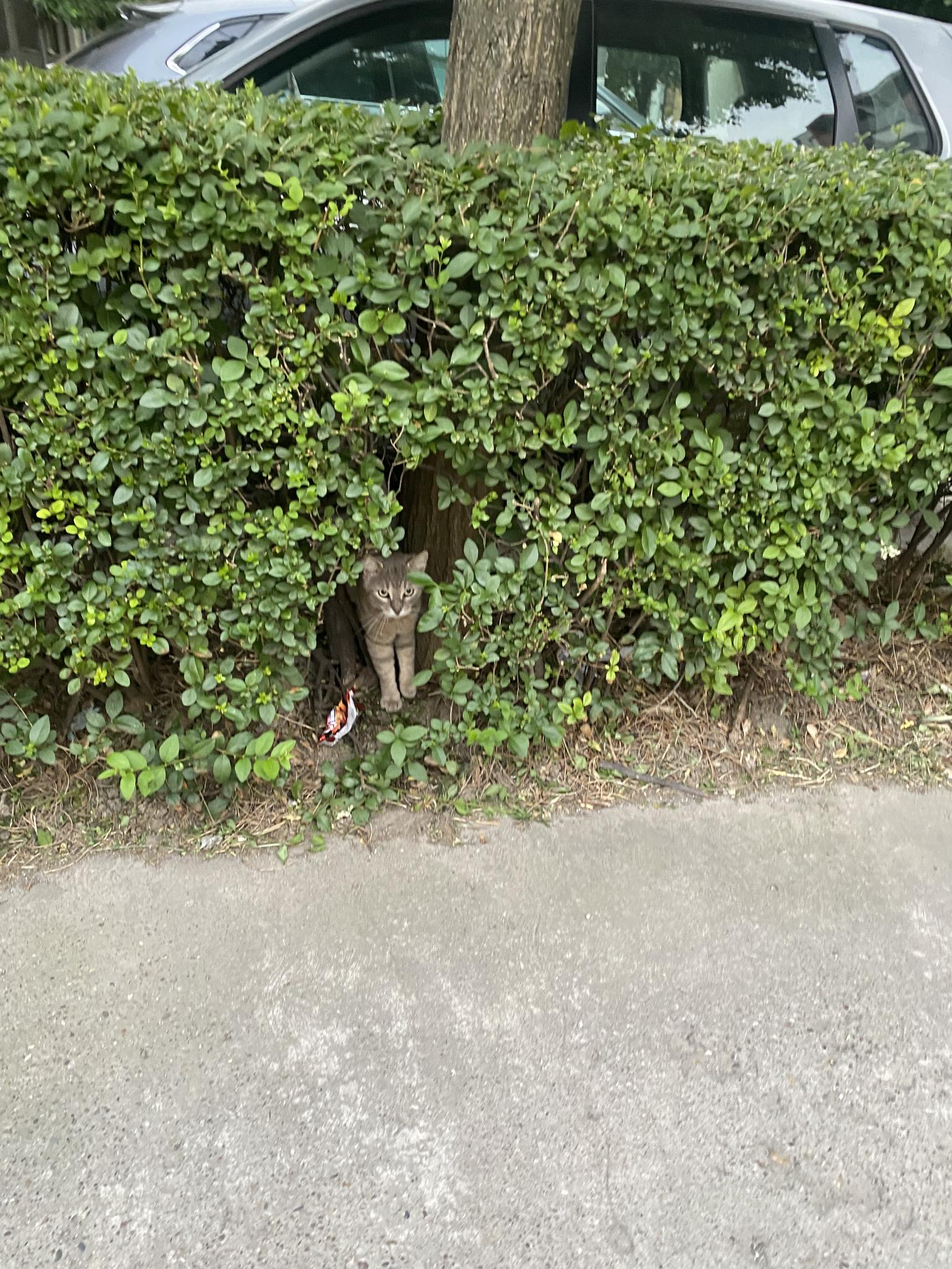macka: (359, 550, 430, 712)
